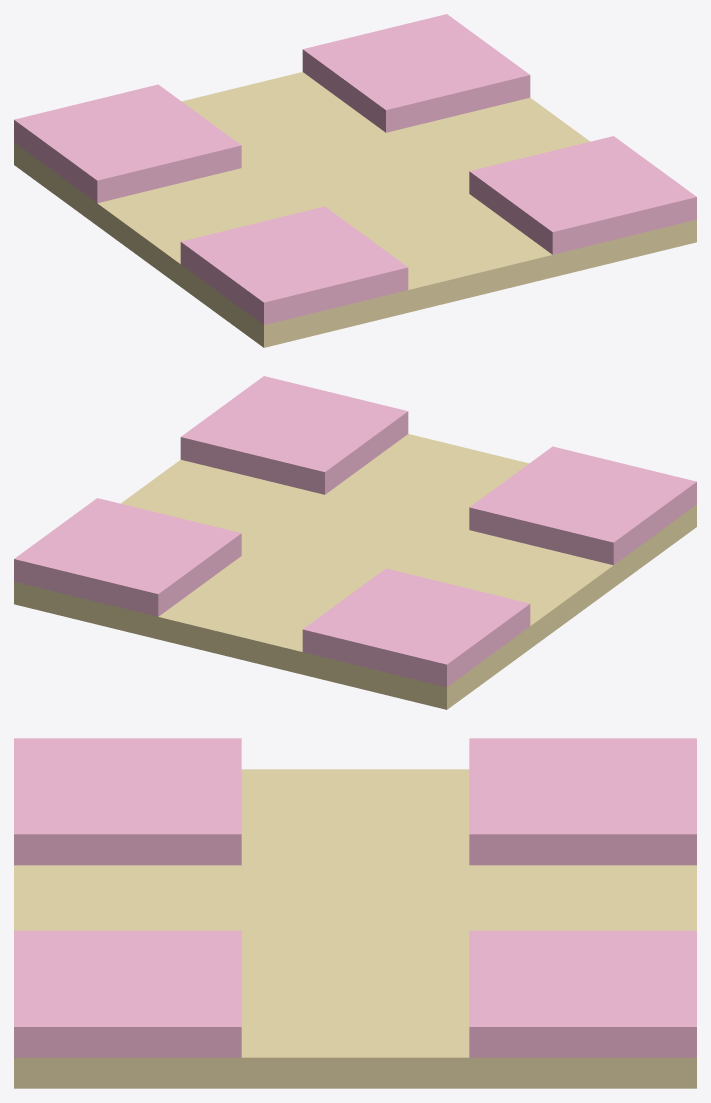
The model's file is CandylandCrossing_01.fbx.
3 views of the same model, one above another, from view 1: azimuth 30°, elevation 25°; view 2: azimuth 150°, elevation 25°; view 3: azimuth 270°, elevation 25° (orthographic). The views are drawn at different scales.
Parts seen in each view (by area): view 1: CandylandCrossing_01; view 2: CandylandCrossing_01; view 3: CandylandCrossing_01.
Part boxes in pixels (<box>): CandylandCrossing_01: <box>14,14,696,347</box>; CandylandCrossing_01: <box>14,376,696,709</box>; CandylandCrossing_01: <box>14,738,696,1088</box>.
Size of the model in its own units: 1 by 0.1 by 1.
